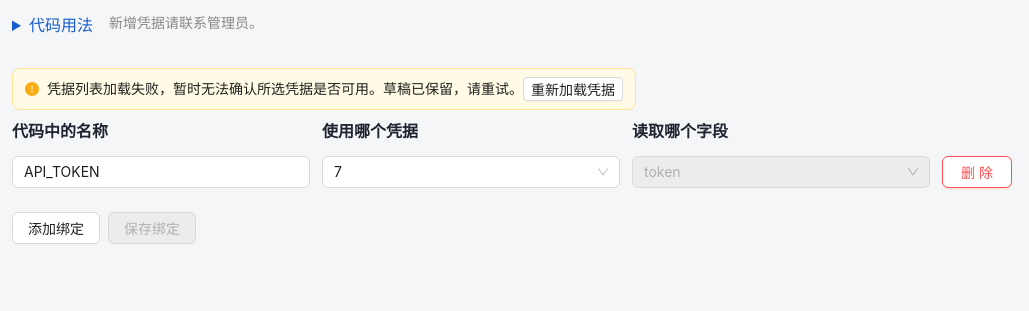
Test case: keeps initial bindings unconfirmed after the initial credential result is superseded by a failed refresh
The width and height of the screenshot is (1029, 311).
Expected: the message "凭据列表加载失败，暂时无法确认所选凭据是否可用。草稿已保留，请重试。 重新加载凭据" is shown, [12, 68, 636, 110]
Replace the text in the field with test id "binding-env-key" with "DRAFT_TOKEN" at (161,172), box [12, 156, 310, 188]
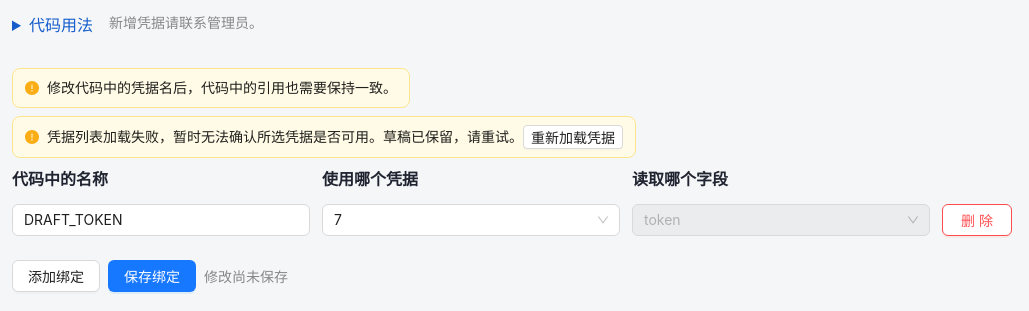
Click the button with test id "binding-retry-credentials" at (573,137), box [523, 125, 623, 149]
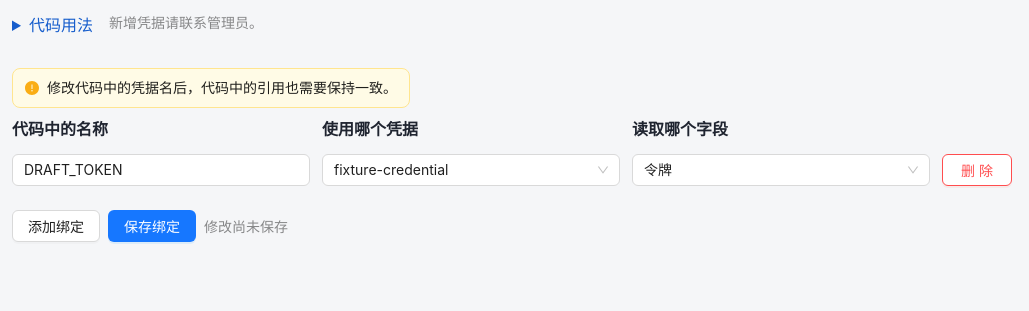
Expected: the message with test id "binding-credentials-load-failed" is gone
